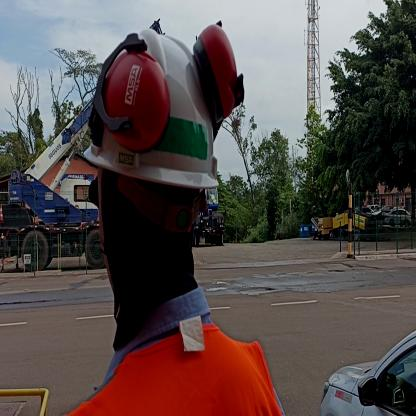Balaclava: (94, 172, 202, 316)
Capacete: (97, 23, 223, 189)
